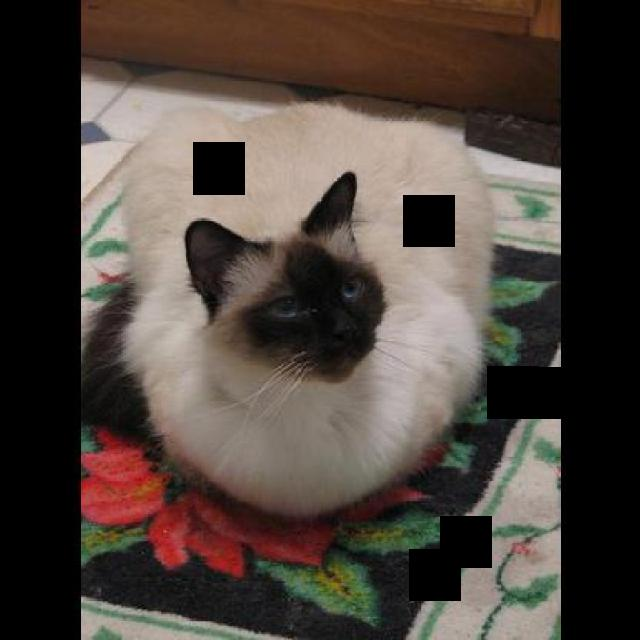unauthorized: (80, 96, 495, 518)
